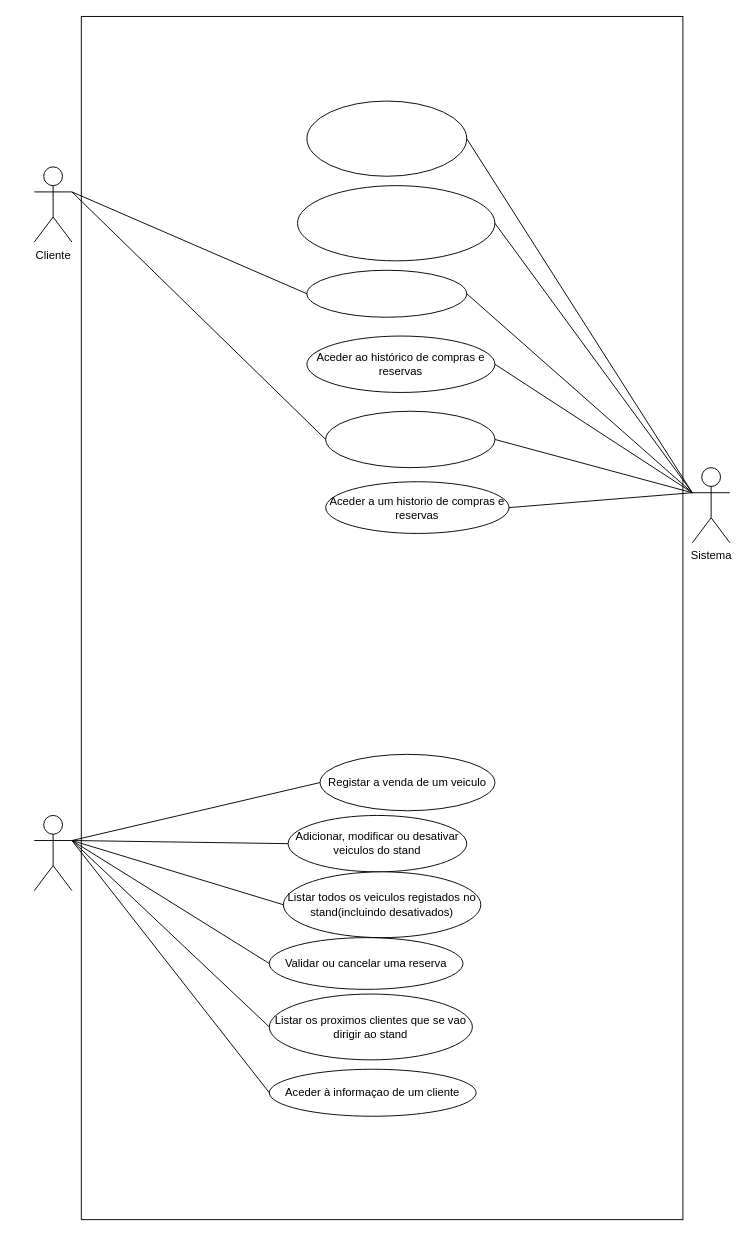
Some shapes in this 747 by 1236 pixel diagram are drawn without their labels. The shapes that lost their labels are listed below. From the top down, each one's centre as x and y in pixels, then its label:
point (386, 138): Aceder e modificar informação no seu perfil
point (396, 223): Aceder à listagem de veiculos e ver informação sobre um dado veiculo
point (386, 293): Reservar veiculo para compra
point (410, 439): Registo do cliente
point (52, 853): Dono da stand
